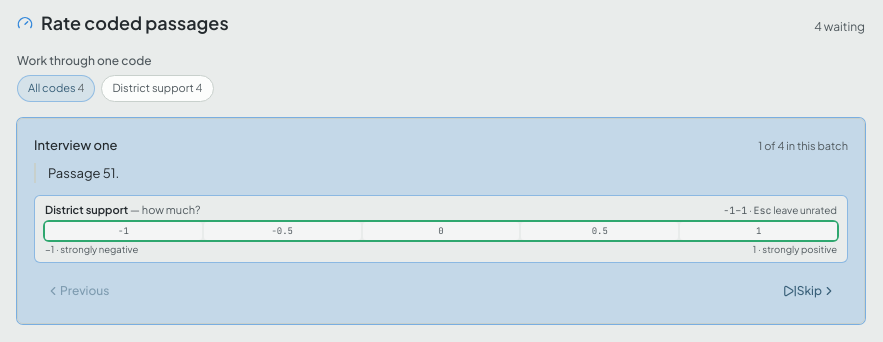
Test case: #1456 — re-reading the queue after a rating › 🔴 an INVALIDATION while the page is open keeps the coder’s place and the count
Expected: the text "Passage 51." is shown, [34,162,848,182]
Press 1 in the element showing "−1 −0.5 0 0.5 1", box [45,222,837,240]
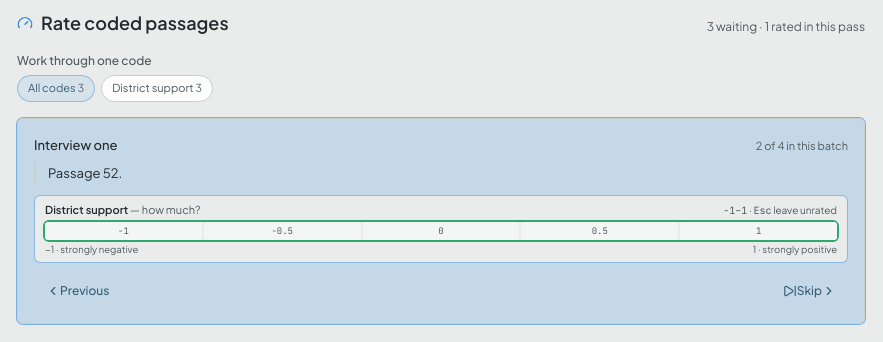
Result: the text "Passage 51." is gone
Result: the text "3 waiting · 1 rated in this pass" is shown at [707,19,865,35]
Result: the text "Passage 52." is shown at [34,162,848,182]
Click the button with aria-label "previous passage" at (78, 291), box [34,275,121,307]
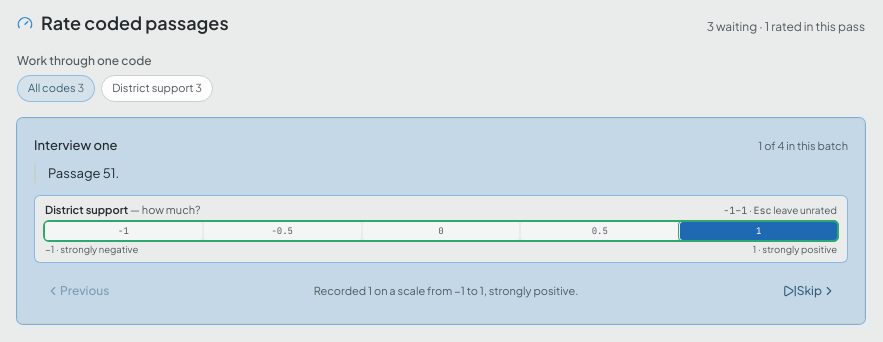
Result: the text "Passage 51." is shown at [34,162,848,182]
Result: the text "Recorded 1 on a scale from −1 to 1, strongly positive." is shown at [314,283,578,300]
